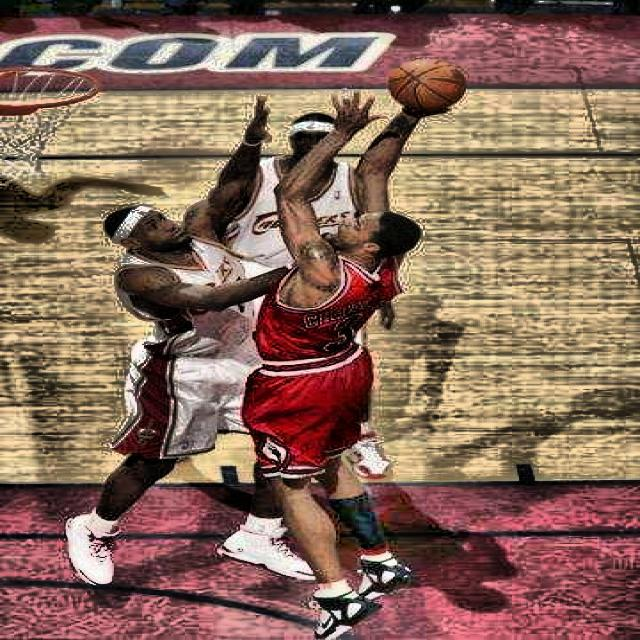board: (388, 59, 465, 110)
